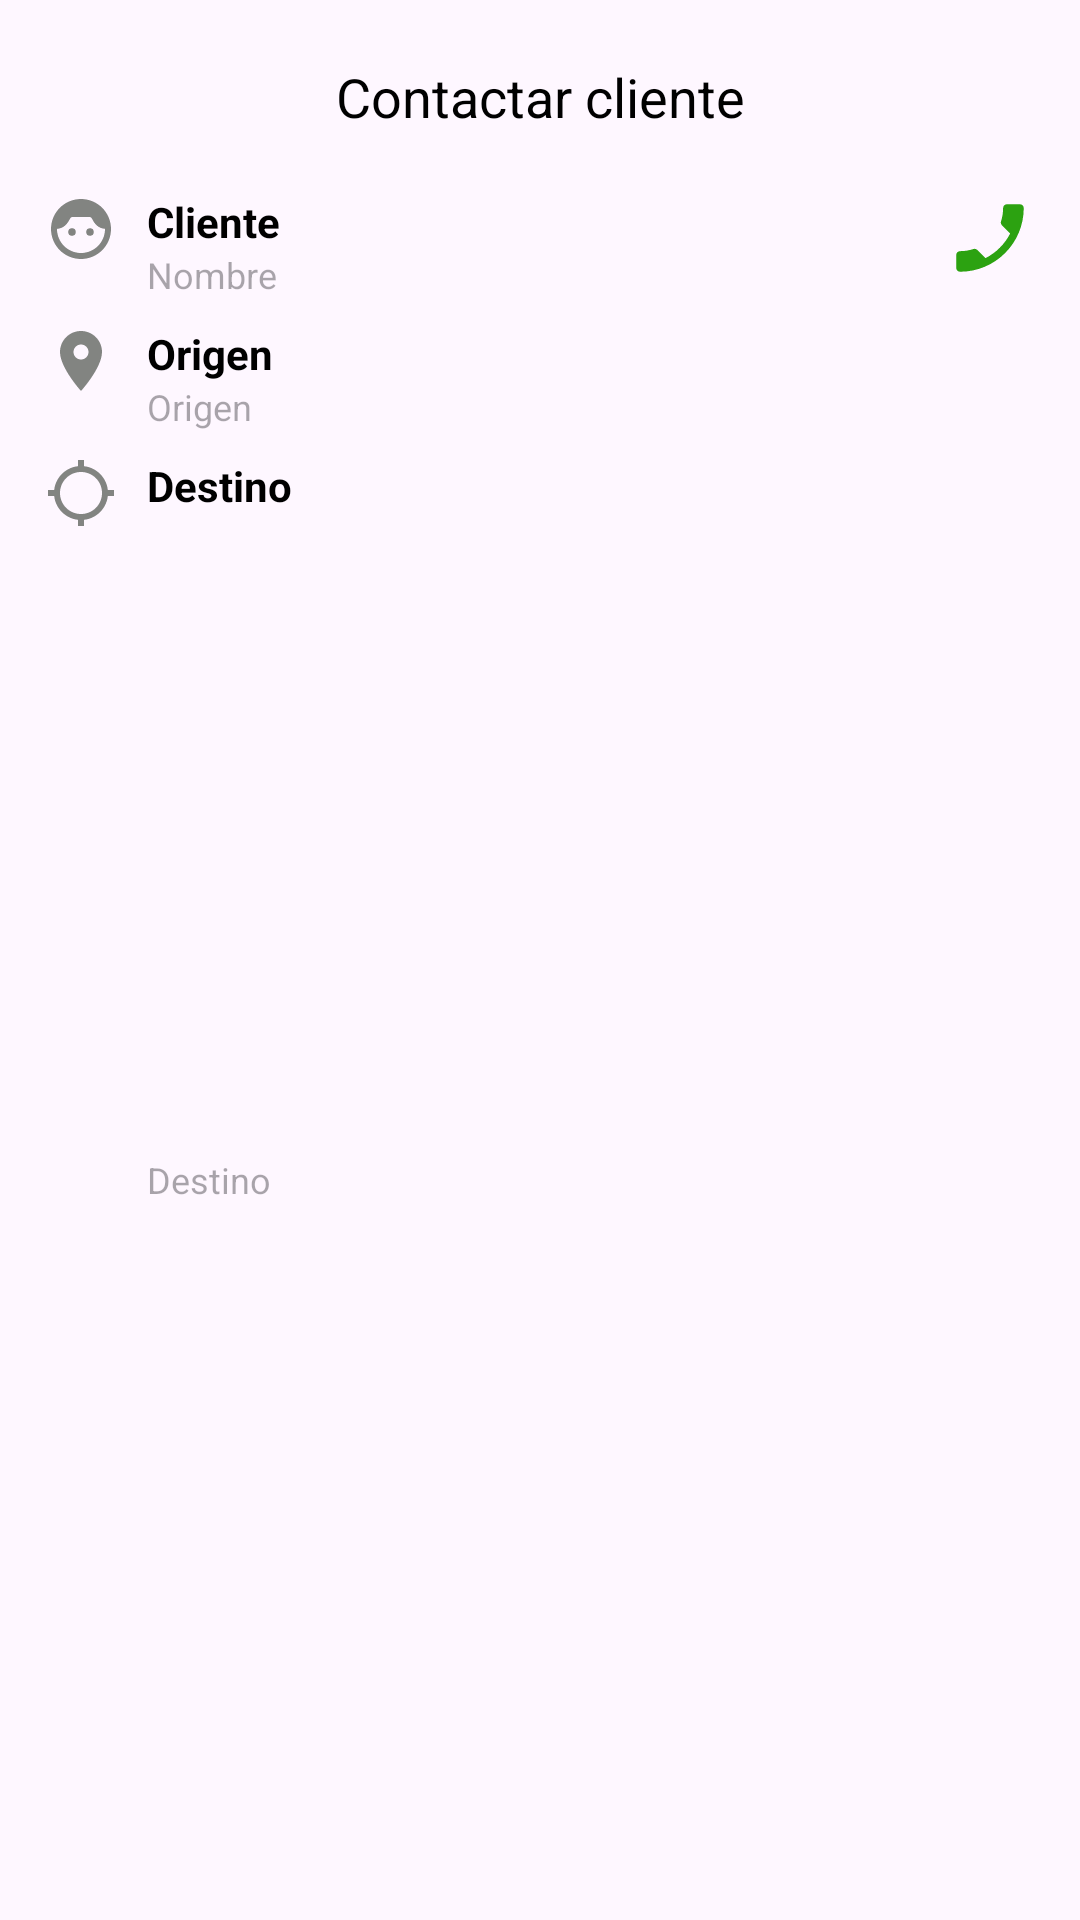

Where to tap for icons on this 1080x1920 app screen, as (x,y):
client modal: (81,229)
dest trip: (81,493)
origin trip: (81,361)
phone modal: (990,238)
